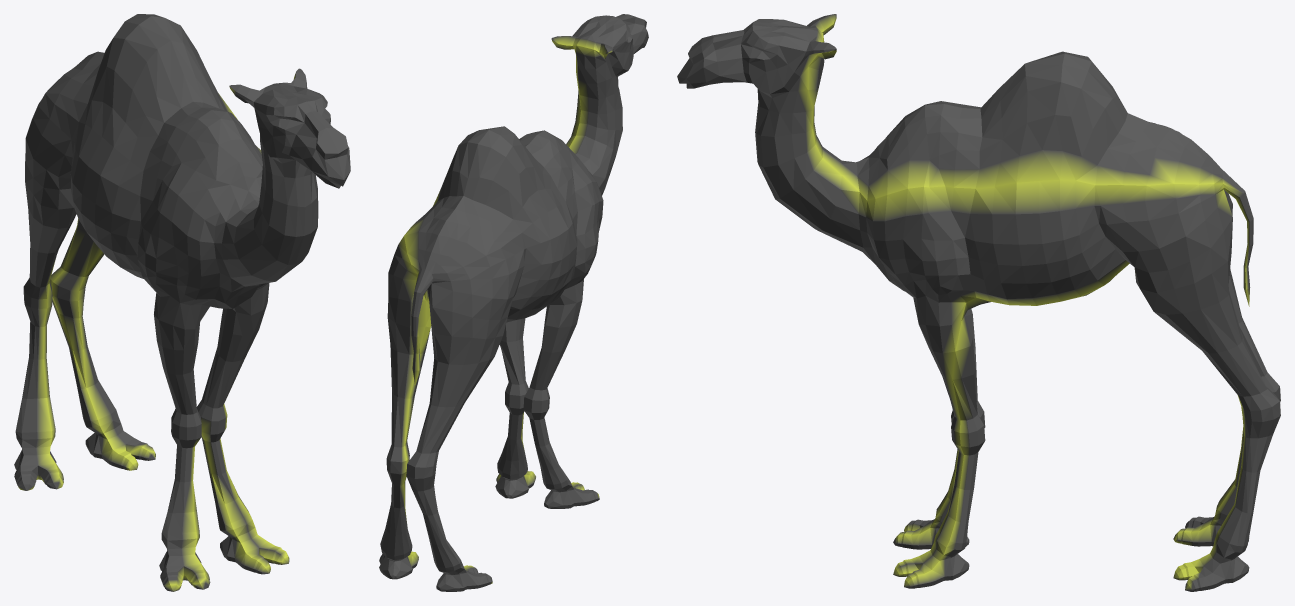
File: colour_camel.obj
The picture shows the model from 3 angles, left to right: view 1: azimuth 30°, elevation 25°; view 2: azimuth 150°, elevation 25°; view 3: azimuth 270°, elevation 25°; orthographic projection. The views are drawn at different scales.
Bounding box in the file's own units: 24.49 × 77.53 × 79.52.
